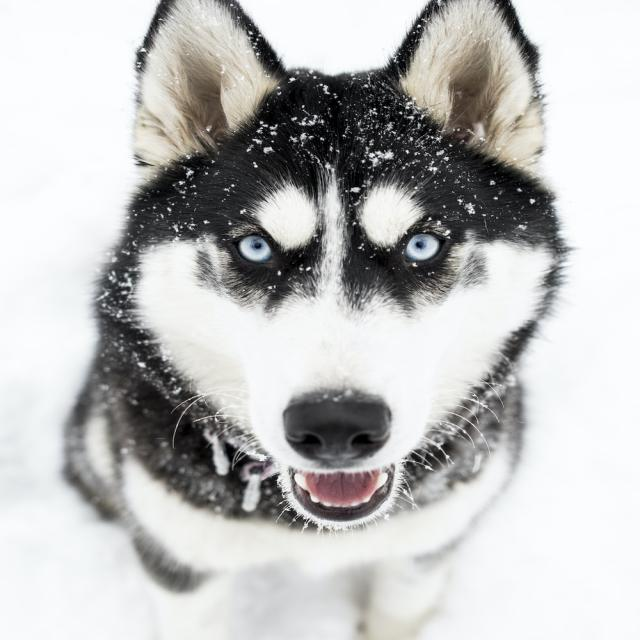husky: (28, 0, 624, 547)
